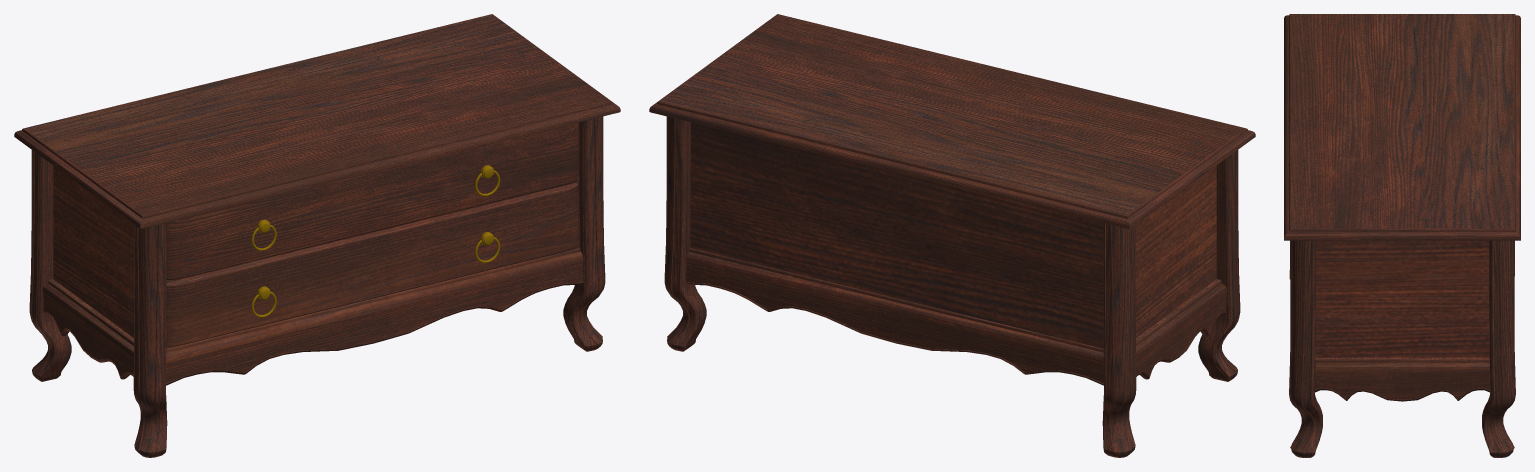
File: Chest.fbx
The picture shows the model from 3 angles, left to right: view 1: azimuth 30°, elevation 25°; view 2: azimuth 150°, elevation 25°; view 3: azimuth 270°, elevation 25°; orthographic projection. The views are drawn at different scales.
Visible parts, largest first — view 1: Board_Top_, Drawer2, Drawer1, Box, Board1, Board5, Leg3, Leg4, Leg1, Board2; view 2: Board_Top_, Box, Board3, Board5, Leg1, Leg2, Leg3, Board2; view 3: Board_Top_, Box, Leg2, Leg4, Board4, Board5.
Part boxes in pixels (x1,y1,x2,y2): Board_Top_: (14, 14, 620, 229); Drawer2: (166, 183, 578, 346); Drawer1: (166, 122, 578, 280); Box: (53, 122, 579, 348); Board1: (166, 262, 583, 385); Board5: (42, 248, 584, 363); Leg3: (133, 223, 167, 457); Leg4: (563, 116, 605, 351); Leg1: (29, 150, 71, 381); Board2: (42, 293, 133, 379); Board_Top_: (649, 14, 1255, 229); Box: (690, 122, 1216, 348); Board3: (686, 262, 1103, 385); Board5: (685, 248, 1227, 363); Leg1: (1102, 223, 1136, 457); Leg2: (664, 116, 706, 351); Leg3: (1198, 150, 1240, 381); Board2: (1136, 293, 1227, 379); Board_Top_: (1284, 14, 1520, 240); Box: (1315, 240, 1489, 357); Leg2: (1482, 240, 1515, 457); Leg4: (1289, 240, 1322, 457); Board4: (1314, 373, 1490, 401); Board5: (1315, 357, 1489, 372).
Bounding box in the file's own units: 5.81 × 2.86 × 2.64.
2 materials, 1 textured.
